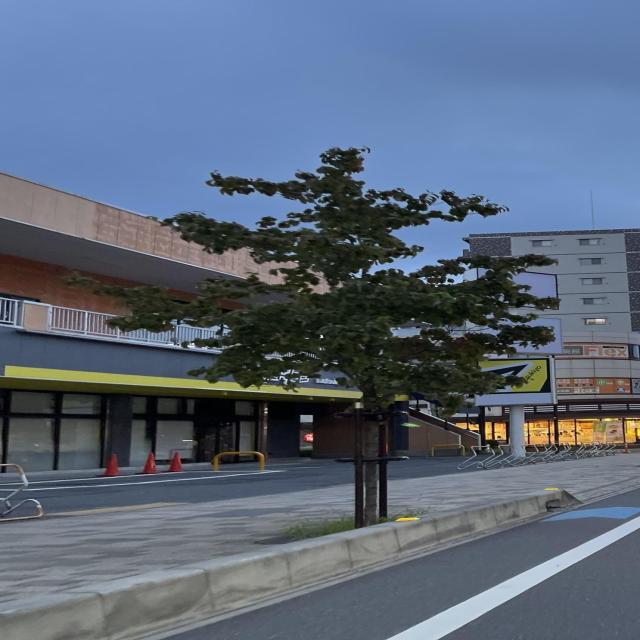dogwood: (61, 145, 562, 526)
